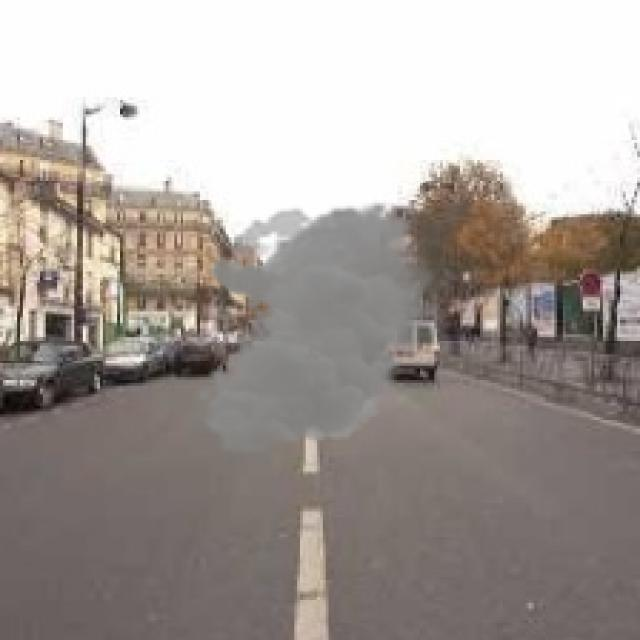smoke: (194, 200, 449, 454)
